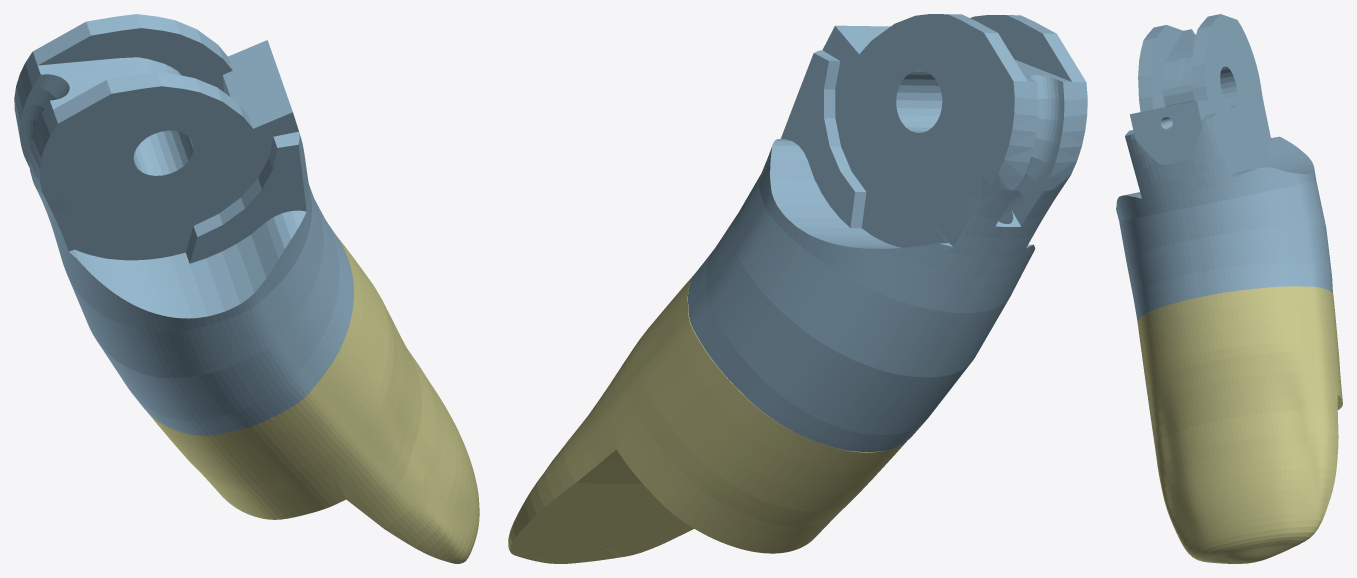
Rendered from i02_leftHand_ThumbTip_visual.obj.
3 views of the same model, side by side, from view 1: azimuth 30°, elevation 25°; view 2: azimuth 150°, elevation 25°; view 3: azimuth 270°, elevation 25° (orthographic). The views are drawn at different scales.
Visible parts, largest first — view 1: i02_leftHand_ThumbTip_visual.001; view 2: i02_leftHand_ThumbTip_visual.001; view 3: i02_leftHand_ThumbTip_visual.001.
Part boxes in pixels (<box>): i02_leftHand_ThumbTip_visual.001: <box>14,14,479,563</box>; i02_leftHand_ThumbTip_visual.001: <box>508,14,1087,563</box>; i02_leftHand_ThumbTip_visual.001: <box>1116,14,1342,563</box>.
Bounding box in the file's own units: 0.3346 × 0.4094 × 0.1975.
